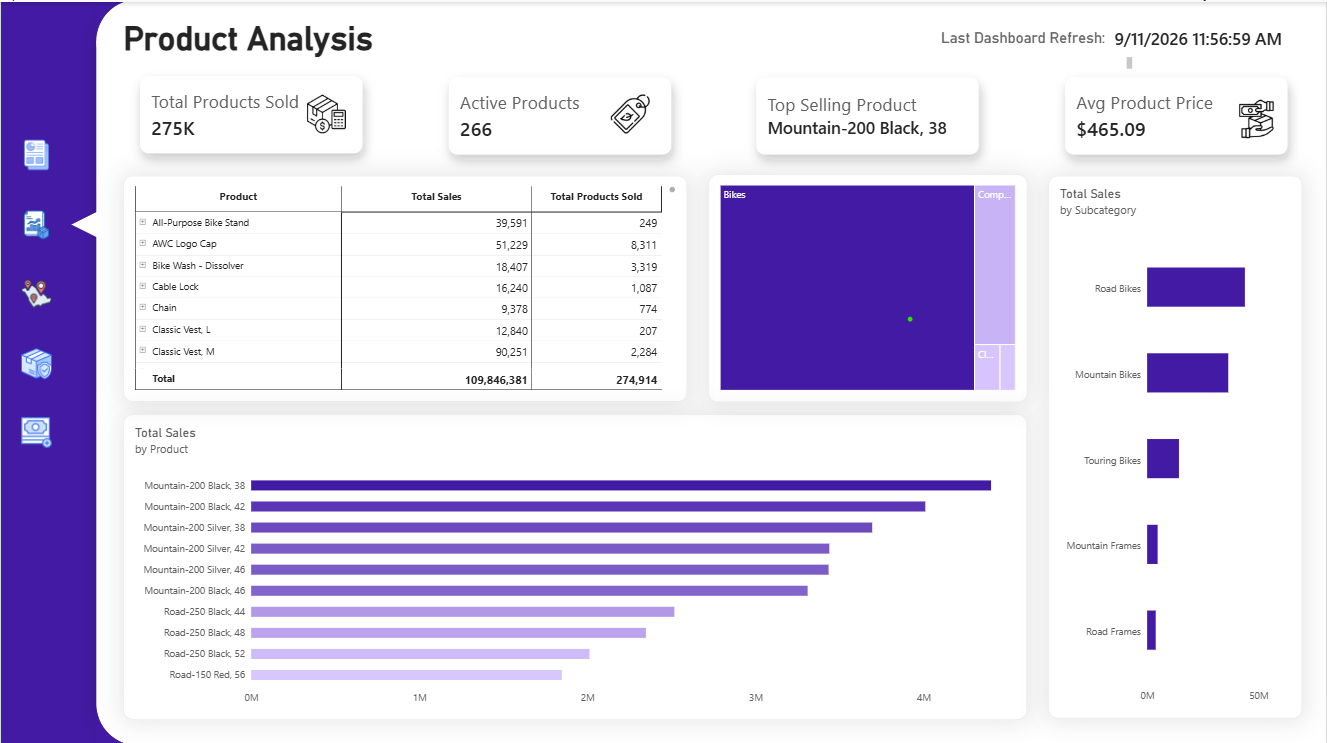

The dashboard page shown, as its layout file describes it:
{"tool":"powerbi","page":{"name":"Product Analysis","canvas":[1920,1080],"ordinal":1},"visuals":[{"type":"cardVisual","fields":{"Data":["DAX_Measures.Top Selling Product"]},"box":[1070.1,85.1,370,160],"z":0},{"type":"cardVisual","fields":{"Data":["DAX_Measures.Total Products Sold"]},"box":[177.3,83.2,370,160.3],"z":1000},{"type":"cardVisual","fields":{"Data":["DAX_Measures.Active Products"]},"box":[623.7,85.1,370,160],"z":2000},{"type":"pivotTable","title":"Transaction History ","fields":{"Rows":["Products.Product","Category.Category"],"Values":["DAX_Measures.Total Sales","DAX_Measures.Total Products Sold"]},"box":[177.3,251.5,816.2,327.5],"z":3000},{"type":"barChart","fields":{"Category":["Products.Product"],"Y":["DAX_Measures.Total Sales"]},"box":[177.3,597.2,1308.4,441.6],"z":4000},{"type":"treemap","fields":{"Group":["Category.Category"],"Values":["DAX_Measures.Total Sales"]},"box":[1024.3,249.7,461.5,329.4],"z":5000},{"type":"clusteredBarChart","fields":{"Category":["Subcategory.Subcategory"],"Y":["DAX_Measures.Total Sales"]},"box":[1516.5,251.5,367.4,785.4],"z":6000},{"type":"cardVisual","fields":{"Data":["DAX_Measures.Avg Product Price"]},"box":[1516.5,85.1,370,160],"z":7000},{"type":"image","box":[29,199.1,45,45],"z":8000},{"type":"image","box":[29,299.5,45,45],"z":9000},{"type":"image","box":[29,399.9,45,45],"z":10000},{"type":"image","box":[29,500.4,45,45],"z":11000},{"type":"image","box":[29,600.8,45,45],"z":12000},{"type":"textbox","title":"Product Analysis","box":[177.3,25.3,693.1,56.1],"z":13000},{"type":"textbox","title":"Last Dashboard Refresh:","box":[1360.9,39.8,276.9,57.9],"z":14000},{"type":"cardVisual","fields":{"Data":["DAX_Measures.System Time"]},"box":[1596.1,38,323.9,30.8],"z":15000},{"type":"shape","box":[101.3,302.2,40,40],"z":15001},{"type":"image","box":[870.4,132.1,80,60],"z":15002},{"type":"image","box":[430.7,132.1,80,60],"z":15003},{"type":"image","box":[1777.1,139.3,80,60],"z":15005}]}

Visuals, with their boxes on the page's 1920x1080 design canvas (x1, y1, x2, y2). These are canvas units, not pixel positions in the 1327x743 screenshot, which may show the page scaled, cropped or inside an application window:
cardVisual - DAX_Measures.Top Selling Product: bbox(1070, 85, 1440, 245)
cardVisual - DAX_Measures.Total Products Sold: bbox(177, 83, 547, 244)
cardVisual - DAX_Measures.Active Products: bbox(624, 85, 994, 245)
"Transaction History " pivotTable: bbox(177, 252, 994, 579)
barChart - Products.Product x DAX_Measures.Total Sales: bbox(177, 597, 1486, 1039)
treemap - Category.Category x DAX_Measures.Total Sales: bbox(1024, 250, 1486, 579)
clusteredBarChart - Subcategory.Subcategory x DAX_Measures.Total Sales: bbox(1516, 252, 1884, 1037)
cardVisual - DAX_Measures.Avg Product Price: bbox(1516, 85, 1886, 245)
image: bbox(29, 199, 74, 244)
image: bbox(29, 300, 74, 344)
image: bbox(29, 400, 74, 445)
image: bbox(29, 500, 74, 545)
image: bbox(29, 601, 74, 646)
"Product Analysis" textbox: bbox(177, 25, 870, 81)
"Last Dashboard Refresh:" textbox: bbox(1361, 40, 1638, 98)
cardVisual - DAX_Measures.System Time: bbox(1596, 38, 1920, 69)
shape: bbox(101, 302, 141, 342)
image: bbox(870, 132, 950, 192)
image: bbox(431, 132, 511, 192)
image: bbox(1777, 139, 1857, 199)
